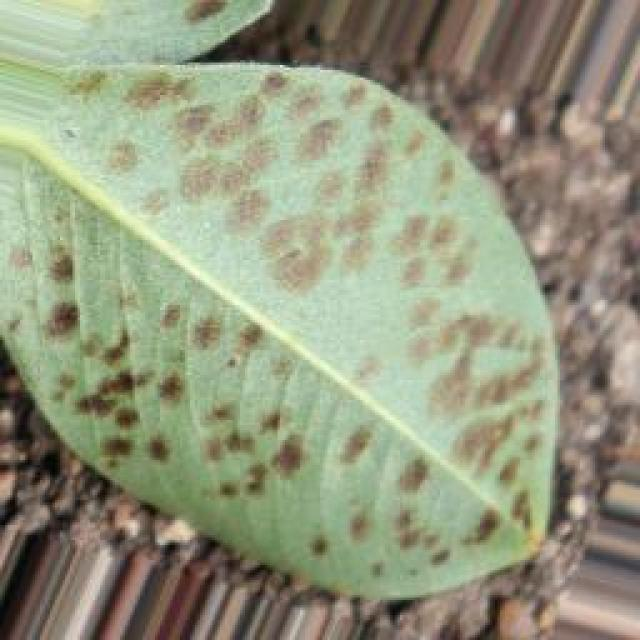Whitefly: (0, 45, 527, 586)
